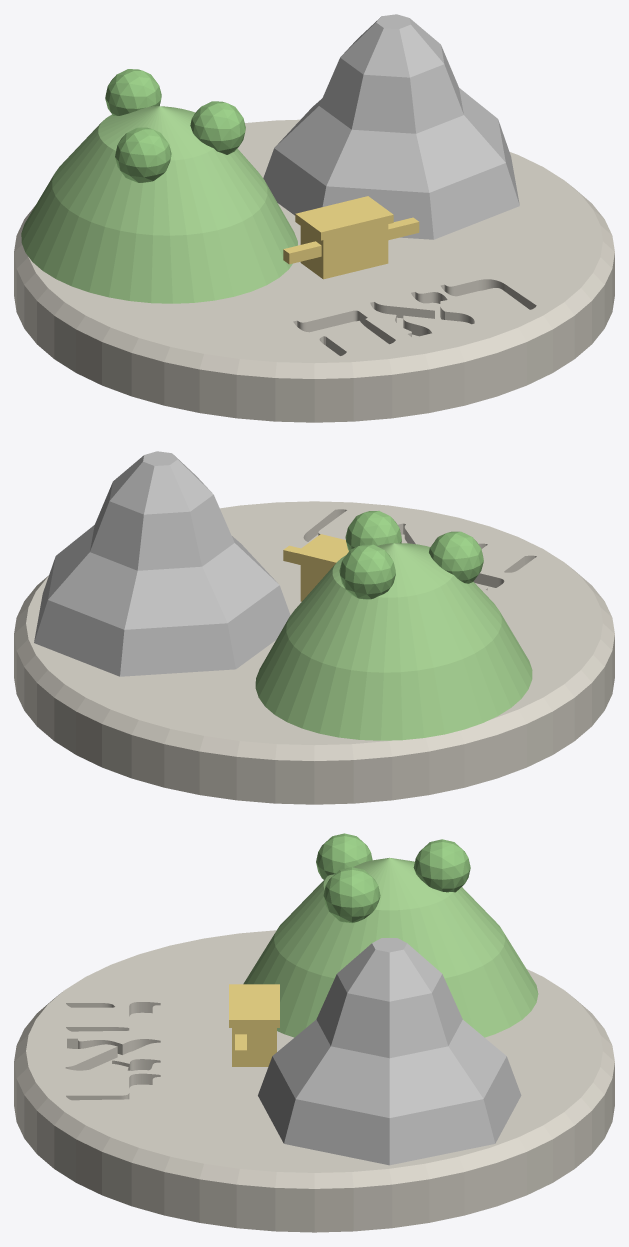
Rendered from reeh.glb.
3 renders of one model, top to bottom at view 1: azimuth 30°, elevation 25°; view 2: azimuth 150°, elevation 25°; view 3: azimuth 270°, elevation 25°, orthographic.
Visible parts, largest first — view 1: stage, gerizim, eival, ark, trees; view 2: stage, eival, gerizim, trees, ark; view 3: stage, eival, gerizim, trees, ark.
Part boxes in pixels (box(x1,y1,x2,y2)): stage: box(14, 119, 614, 422); gerizim: box(21, 106, 297, 303); eival: box(263, 14, 519, 239); ark: box(283, 196, 419, 279); trees: box(105, 69, 245, 182); stage: box(14, 501, 614, 804); eival: box(34, 451, 290, 676); gerizim: box(255, 543, 532, 740); trees: box(339, 511, 483, 599); ark: box(283, 534, 348, 601); stage: box(14, 930, 614, 1232); eival: box(258, 938, 521, 1165); gerizim: box(243, 857, 538, 1037); trees: box(316, 833, 470, 922); ark: box(229, 984, 279, 1066).
Size of the model in its own units: 40 by 16 by 40.
